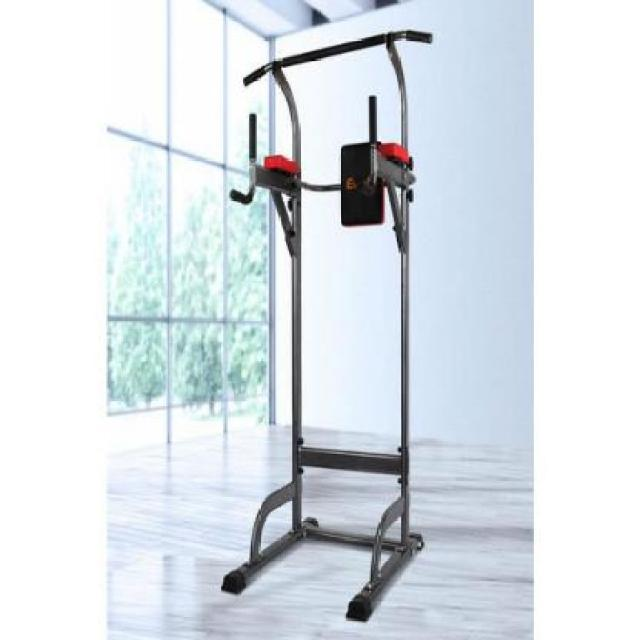chinning dipping: (221, 29, 434, 623)
